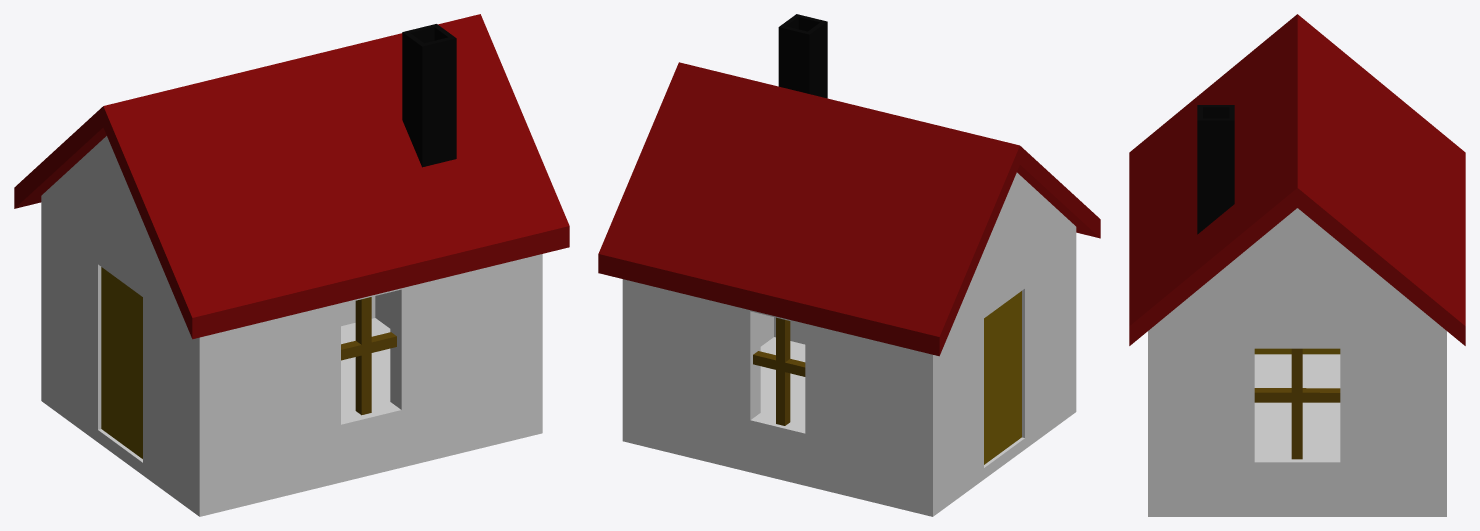
Rendered from house.fbx.
3 renders of one model, left to right at view 1: azimuth 30°, elevation 25°; view 2: azimuth 150°, elevation 25°; view 3: azimuth 270°, elevation 25°, orthographic. The views are drawn at different scales.
Parts seen in each view (by area): view 1: Cube, House, Cube.003, Cube.002, Cube.001; view 2: Cube, House, Cube.002, Cube.003, Cube.001; view 3: House, Cube, Cube.003, Cube.001, Cube.002.
Part boxes in pixels (x1,y1,x2,y2): Cube: (14, 14, 569, 339); House: (41, 136, 542, 516); Cube.003: (402, 24, 456, 167); Cube.002: (101, 267, 142, 458); Cube.001: (341, 297, 396, 415); Cube: (598, 62, 1100, 356); House: (622, 172, 1076, 516); Cube.002: (984, 291, 1021, 464); Cube.003: (778, 14, 827, 98); Cube.001: (753, 317, 805, 425); House: (1148, 208, 1446, 516); Cube: (1129, 14, 1465, 345); Cube.003: (1197, 105, 1234, 234); Cube.001: (1254, 348, 1340, 459); Cube.002: (1254, 348, 1340, 354).
Size of the model in its own units: 4540 by 4490 by 3712.
